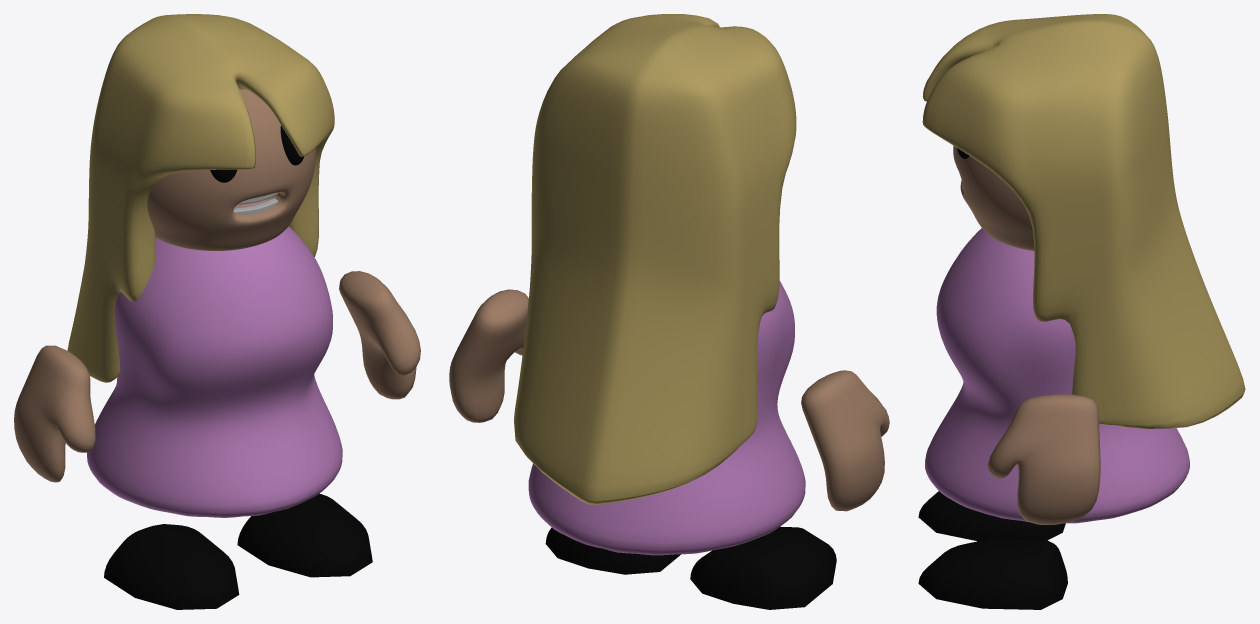
Rendered from Female_Full (Full Person).fbx.
3 views of the same model, side by side, from view 1: azimuth 30°, elevation 25°; view 2: azimuth 150°, elevation 25°; view 3: azimuth 270°, elevation 25° (orthographic). The views are drawn at different scales.
Visible parts, largest first — view 1: pasted__pasted__Body, Long_V2_High_Poly, pasted__Feet_Pasted, pasted__pasted__Hands, pasted__pasted__Head, pasted__pasted__Eyes5; view 2: Long_V2_High_Poly, pasted__pasted__Body, pasted__pasted__Hands, pasted__Feet_Pasted; view 3: Long_V2_High_Poly, pasted__pasted__Body, pasted__Feet_Pasted, pasted__pasted__Hands, pasted__pasted__Head.
Boxes of the visible parts, x1,y1,x2,y2 form: pasted__pasted__Body: [87, 226, 342, 517]; Long_V2_High_Poly: [67, 14, 334, 382]; pasted__Feet_Pasted: [104, 493, 372, 609]; pasted__pasted__Hands: [14, 271, 420, 482]; pasted__pasted__Head: [147, 89, 315, 250]; pasted__pasted__Eyes5: [210, 125, 304, 182]; Long_V2_High_Poly: [514, 14, 796, 504]; pasted__pasted__Body: [528, 281, 805, 555]; pasted__pasted__Hands: [449, 289, 889, 511]; pasted__Feet_Pasted: [545, 526, 836, 609]; Long_V2_High_Poly: [922, 14, 1245, 428]; pasted__pasted__Body: [925, 228, 1189, 523]; pasted__Feet_Pasted: [918, 491, 1067, 609]; pasted__pasted__Hands: [987, 394, 1100, 524]; pasted__pasted__Head: [953, 145, 1034, 250].
Bounding box in the file's own units: 3.17 × 4.08 × 2.32.
